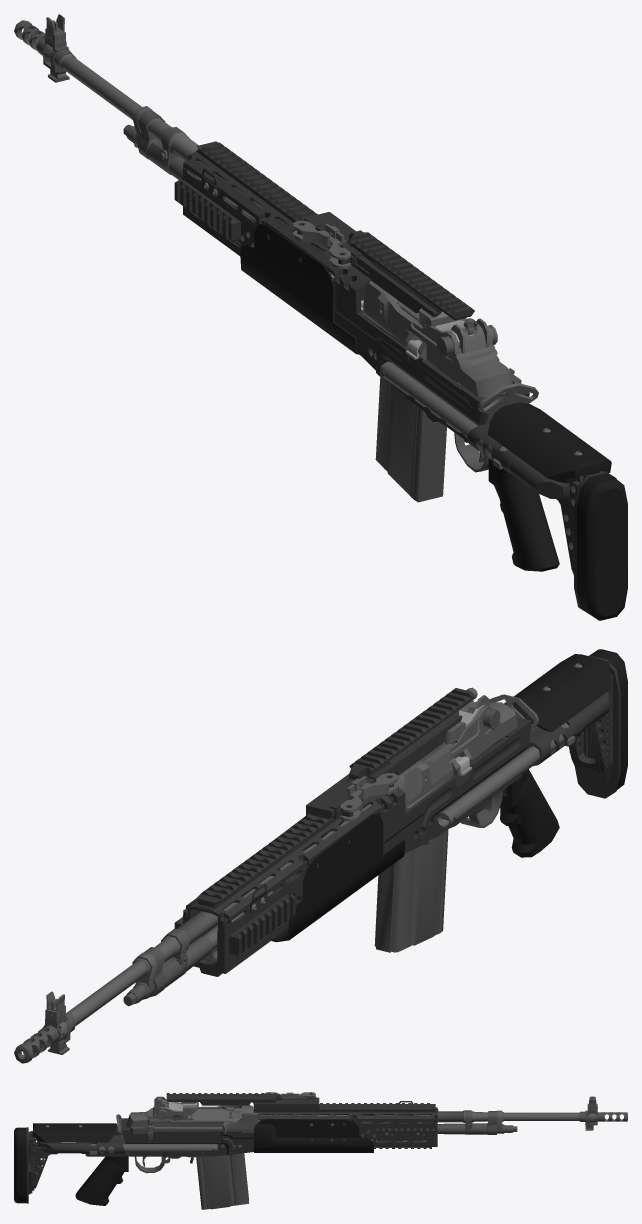
The picture shows the model from 3 angles, top to bottom: view 1: azimuth 30°, elevation 25°; view 2: azimuth 150°, elevation 25°; view 3: azimuth 270°, elevation 25°; orthographic projection. The views are drawn at different scales.
Visible parts, largest first — view 1: Object_4, Object_36; view 2: Object_4, Object_36; view 3: Object_4, Object_36.
Boxes of the visible parts, left/top/right/bottom form: Object_4: left=14, top=14, right=616, bottom=613; Object_36: left=240, top=224, right=627, bottom=620; Object_4: left=14, top=655, right=620, bottom=1063; Object_36: left=271, top=649, right=627, bottom=942; Object_4: left=26, top=1092, right=627, bottom=1209; Object_36: left=14, top=1118, right=373, bottom=1205.
Bounding box in the file's own units: 0.0807 × 0.1969 × 0.98.
Materials: 2 (2 with a texture image).
